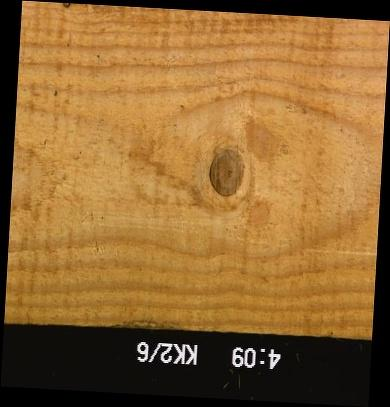dry_knot: (208, 147, 244, 197)
